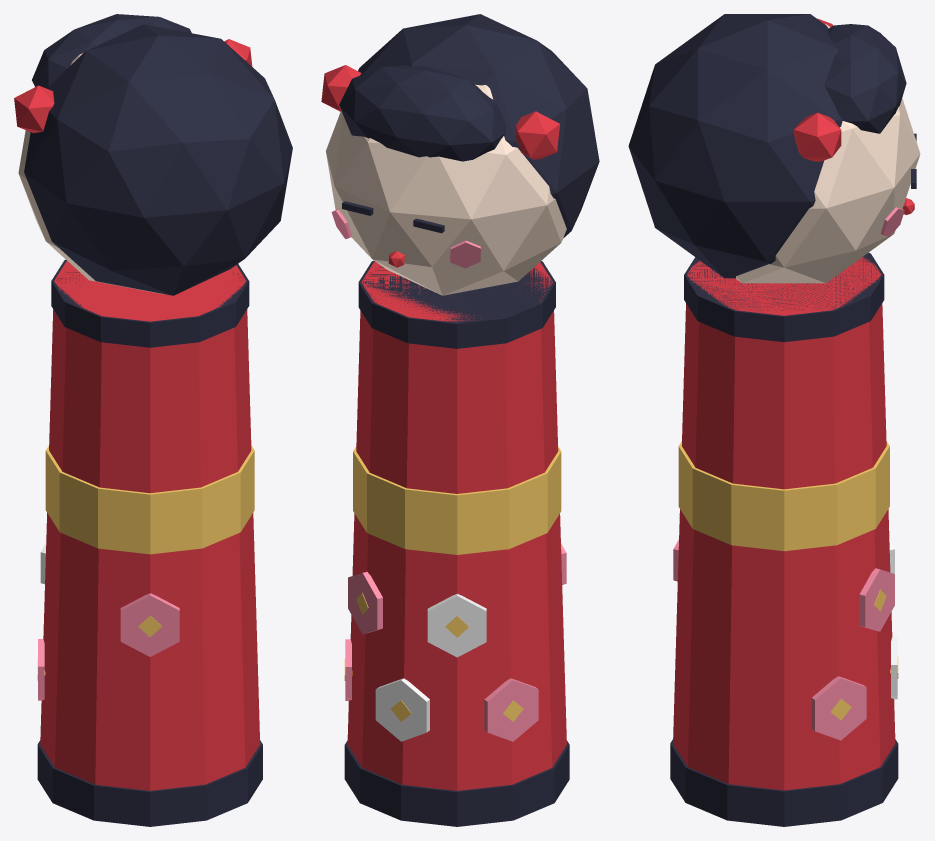
Rendered from kokeshi.glb.
3 views of the same model, side by side, from view 1: azimuth 30°, elevation 25°; view 2: azimuth 150°, elevation 25°; view 3: azimuth 270°, elevation 25° (orthographic).
Parts seen in each view (by area): view 1: Cone, Icosphere.001, Cylinder.001, Cylinder, Cylinder.002, Icosphere.002, Cylinder.013, Icosphere.003, Icosphere; view 2: Cone, Icosphere, Icosphere.001, Cylinder.001, Icosphere.002, Cylinder.002, Cylinder, Cylinder.011, Cylinder.005, Cylinder.007, Icosphere.003, Cylinder.009 (+2 smaller); view 3: Cone, Icosphere.001, Icosphere, Cylinder.001, Cylinder, Cylinder.002, Icosphere.002, Cylinder.003, Icosphere.004, Cylinder.009.
Part boxes in pixels (x1=…): Cone: x1=40, y1=261, x2=260, y2=790; Icosphere.001: x1=24, y1=24, x2=292, y2=295; Cylinder.001: x1=45, y1=445, x2=254, y2=554; Cylinder: x1=37, y1=740, x2=262, y2=826; Cylinder.002: x1=51, y1=259, x2=249, y2=347; Icosphere.002: x1=32, y1=14, x2=191, y2=88; Cylinder.013: x1=120, y1=593, x2=179, y2=656; Icosphere.003: x1=14, y1=85, x2=54, y2=133; Icosphere: x1=18, y1=53, x2=164, y2=294; Cone: x1=347, y1=261, x2=566, y2=790; Icosphere: x1=326, y1=84, x2=566, y2=295; Icosphere.001: x1=358, y1=14, x2=599, y2=237; Cylinder.001: x1=353, y1=446, x2=561, y2=554; Icosphere.002: x1=339, y1=65, x2=506, y2=161; Cylinder.002: x1=358, y1=260, x2=555, y2=348; Cylinder: x1=344, y1=740, x2=569, y2=826; Cylinder.011: x1=427, y1=593, x2=486, y2=657; Cylinder.005: x1=375, y1=678, x2=429, y2=741; Cylinder.007: x1=484, y1=678, x2=538, y2=741; Icosphere.003: x1=515, y1=111, x2=559, y2=159; Cylinder.009: x1=348, y1=572, x2=382, y2=634; Cone: x1=673, y1=256, x2=895, y2=790; Icosphere.001: x1=628, y1=14, x2=842, y2=278; Icosphere: x1=736, y1=24, x2=920, y2=283; Cylinder.001: x1=678, y1=441, x2=889, y2=551; Cylinder: x1=670, y1=739, x2=898, y2=826; Cylinder.002: x1=684, y1=252, x2=884, y2=342; Icosphere.002: x1=824, y1=24, x2=906, y2=133; Cylinder.003: x1=811, y1=676, x2=866, y2=740; Icosphere.004: x1=794, y1=112, x2=841, y2=161; Cylinder.009: x1=859, y1=568, x2=894, y2=631.
Bounding box in the file's own units: 4.89 × 15.05 × 5.25.
